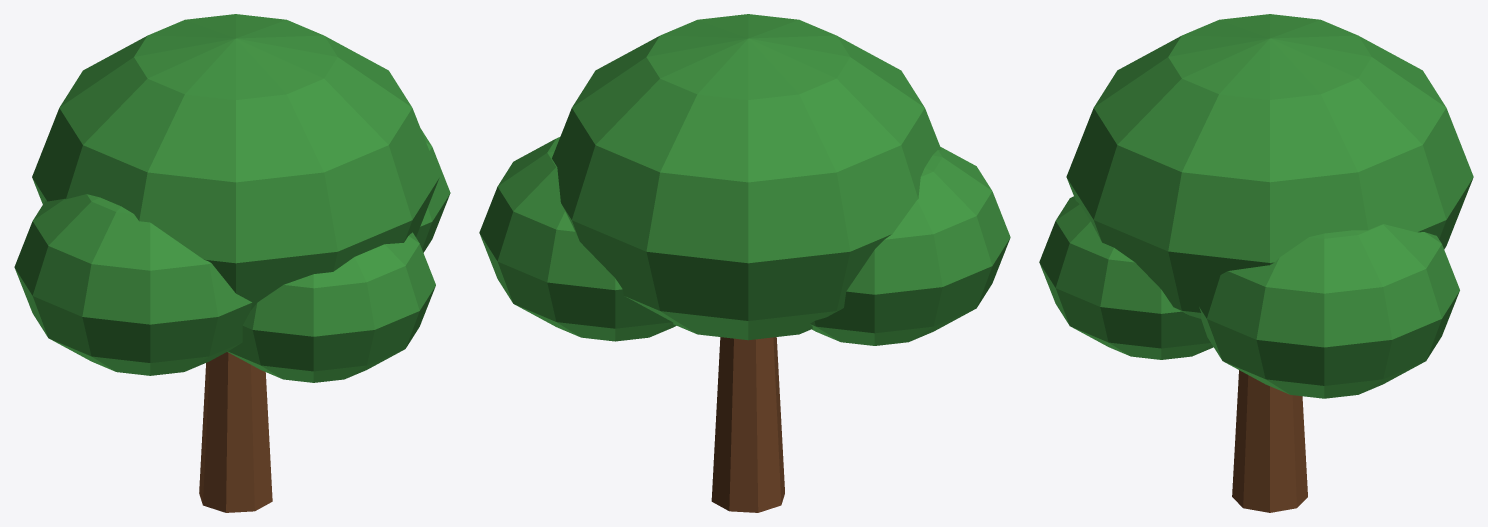
File: tree_shade.glb
The picture shows the model from 3 angles, left to right: view 1: azimuth 30°, elevation 25°; view 2: azimuth 150°, elevation 25°; view 3: azimuth 270°, elevation 25°; orthographic projection.
Visible parts, largest first — view 1: tree_shade; view 2: tree_shade; view 3: tree_shade.
Part boxes in pixels (<box>): tree_shade: <box>14,14,450,512</box>; tree_shade: <box>479,14,1010,512</box>; tree_shade: <box>1039,14,1473,512</box>.
Bounding box in the file's own units: 1.9 × 1.86 × 1.6.
